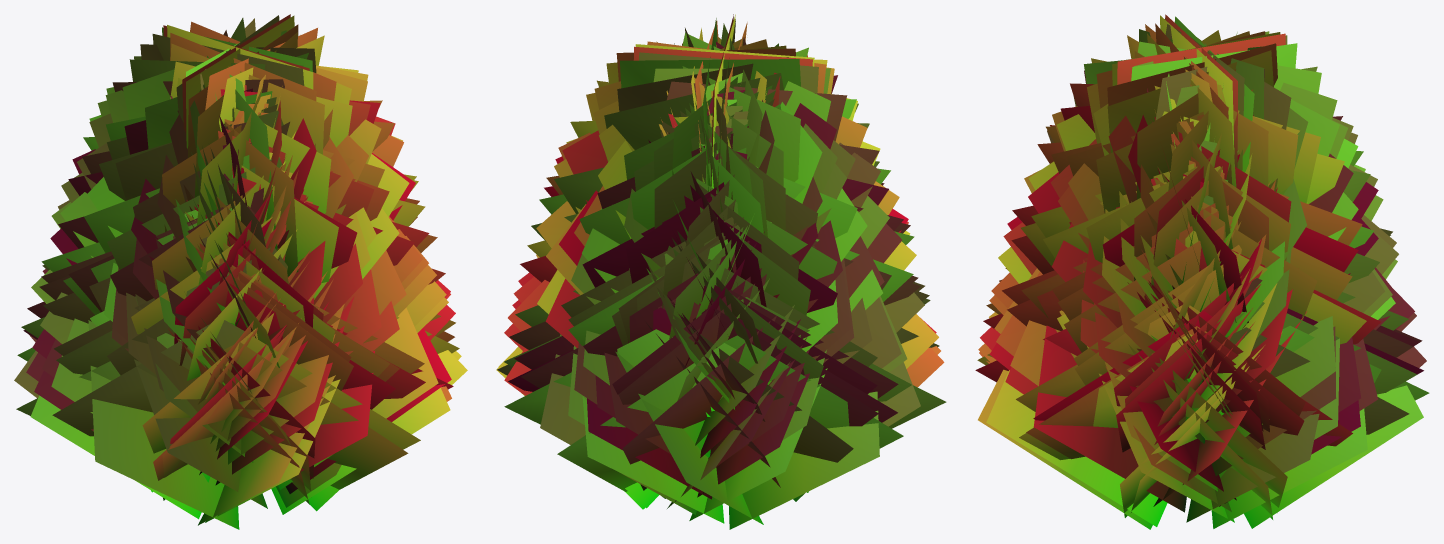
File: URP_P4_Tree_6_LOD_2.fbx
3 views of the same model, side by side, from view 1: azimuth 30°, elevation 25°; view 2: azimuth 150°, elevation 25°; view 3: azimuth 270°, elevation 25° (orthographic).
Parts seen in each view (by area): view 1: Tree_6_LOD_2; view 2: Tree_6_LOD_2; view 3: Tree_6_LOD_2.
Boxes of the visible parts, bbox=[...] form: Tree_6_LOD_2: bbox=[14, 14, 467, 529]; Tree_6_LOD_2: bbox=[496, 14, 946, 529]; Tree_6_LOD_2: bbox=[975, 14, 1429, 529].
Bounding box in the file's own units: 211 × 232 × 211.
